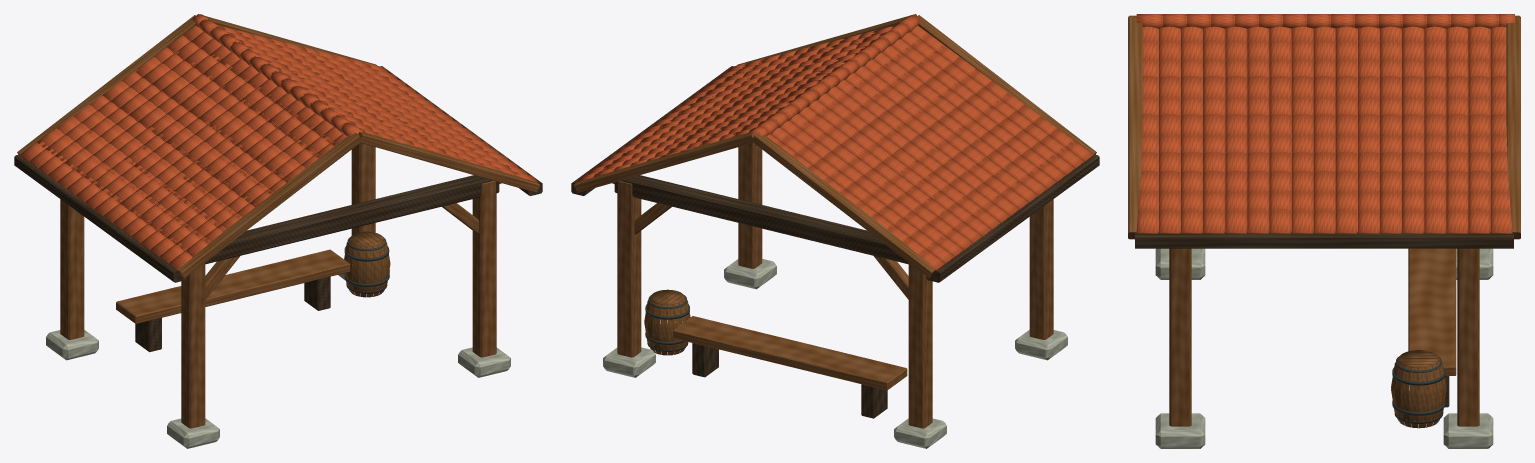
File: shepherd_shelter.glb
3 renders of one model, left to right at view 1: azimuth 30°, elevation 25°; view 2: azimuth 150°, elevation 25°; view 3: azimuth 270°, elevation 25°, orthographic. The views are drawn at different scales.
Visible parts, largest first — view 1: shepherd_shelter; view 2: shepherd_shelter; view 3: shepherd_shelter.
Boxes of the visible parts, x1,y1,x2,y2 form: shepherd_shelter: (14, 14, 542, 448); shepherd_shelter: (571, 14, 1099, 448); shepherd_shelter: (1128, 14, 1520, 448).
Size of the model in its own units: 6.34 by 4.7 by 4.91.
1 material, 1 textured.
